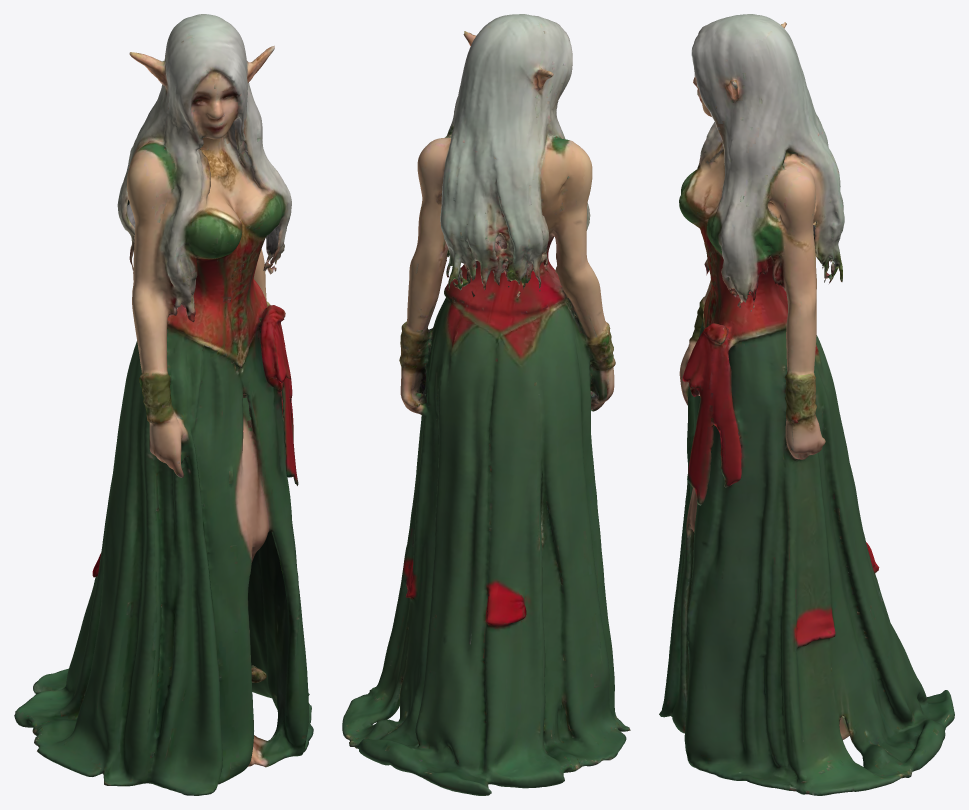
The model's file is barmaid2.glb.
3 renders of one model, left to right at view 1: azimuth 30°, elevation 25°; view 2: azimuth 150°, elevation 25°; view 3: azimuth 270°, elevation 25°, orthographic. The views are drawn at different scales.
Bounding box in the file's own units: 0.7677 × 1.99 × 0.7437.
Materials: 1 (1 with a texture image).
